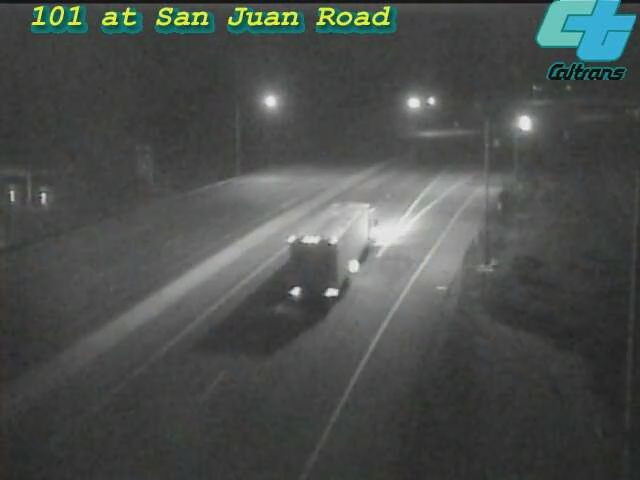vehicle: (309, 193, 389, 273), (497, 99, 547, 149)
